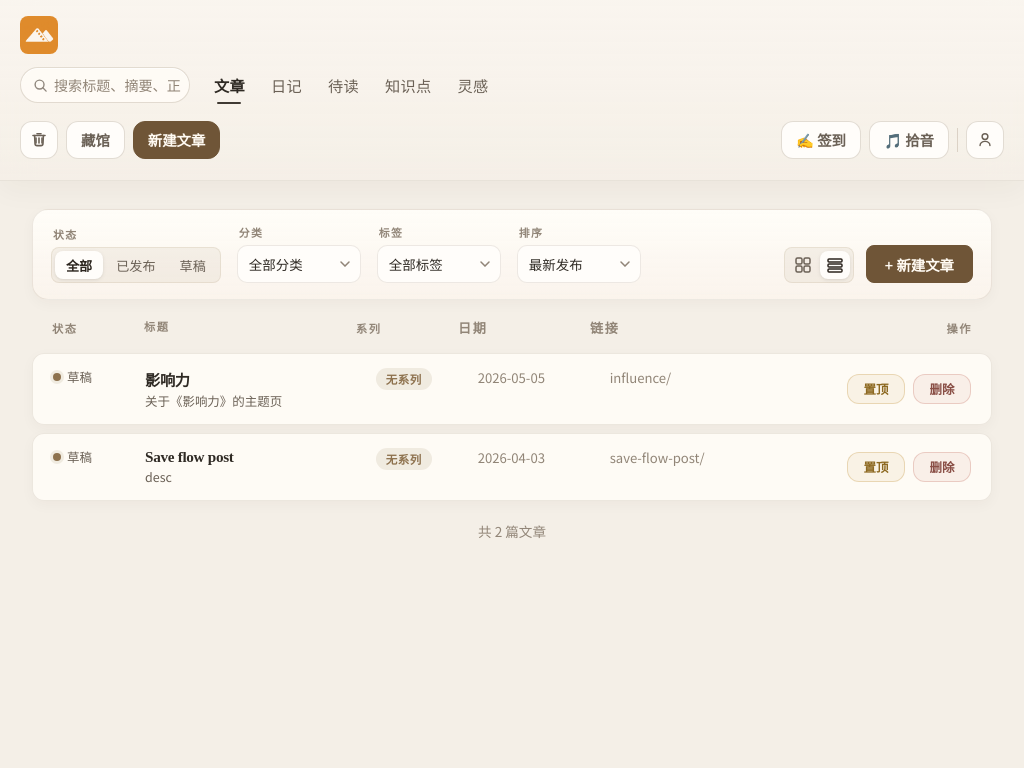
Test: App save flow › updates linked topic documents after saving a backlink source post
This screenshot has width=1024, height=768.
Expected: the text "Save flow post" is shown, top-left (145, 448), bottom-right (234, 466)
Click the button "草稿 Save flow post desc 无系列 2026-04-03 save-flow-post/" at (189, 456), box top-left (53, 448), bottom-right (831, 486)
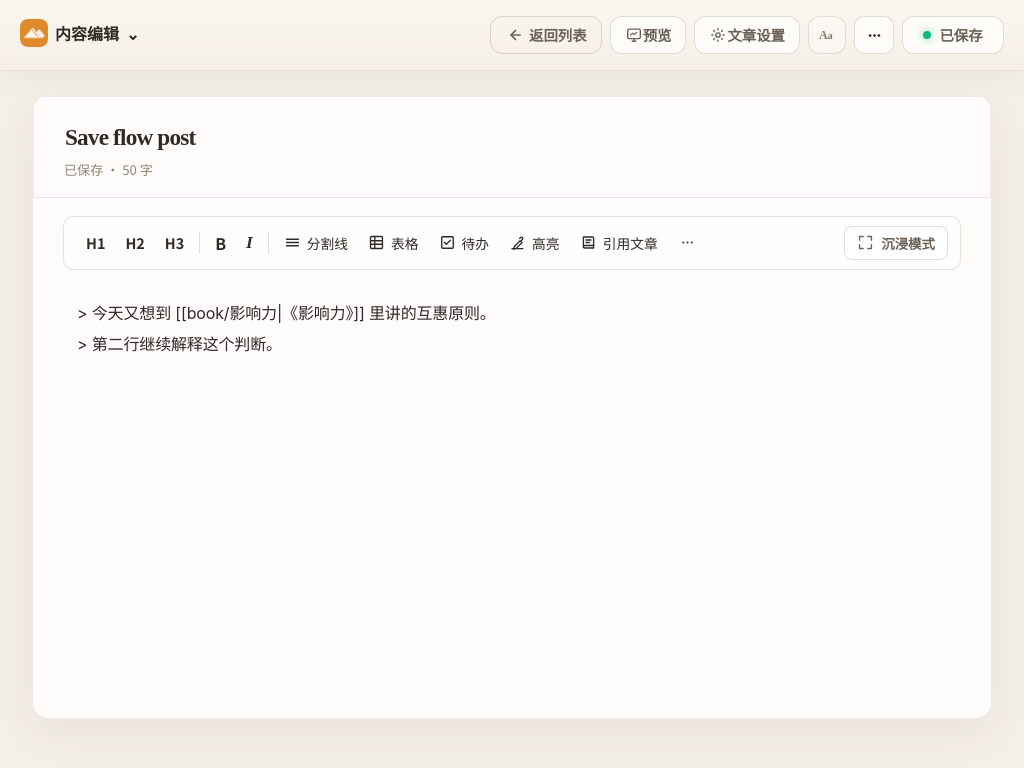
Expected: the text box named "Markdown 编辑器" is shown, top-left (63, 270), bottom-right (961, 688)
Replace the text in the field named "标题" with "Updated source title" at (512, 138), box top-left (64, 123), bottom-right (960, 153)
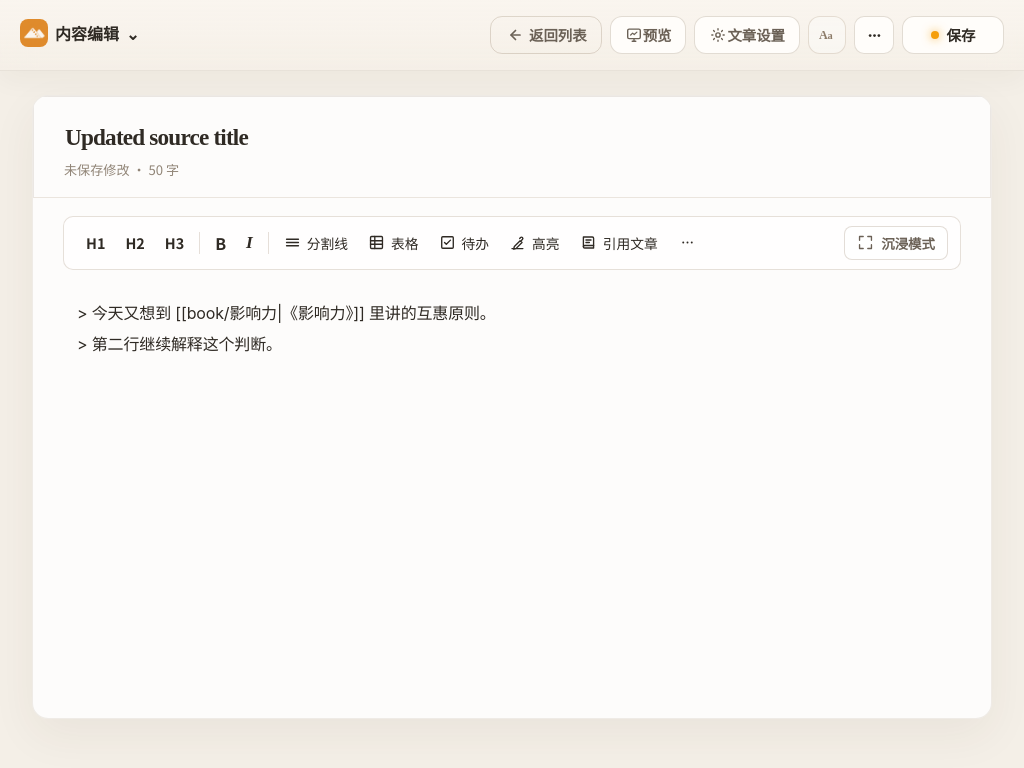
Click the button "保存" at (953, 35), box top-left (902, 16), bottom-right (1004, 54)
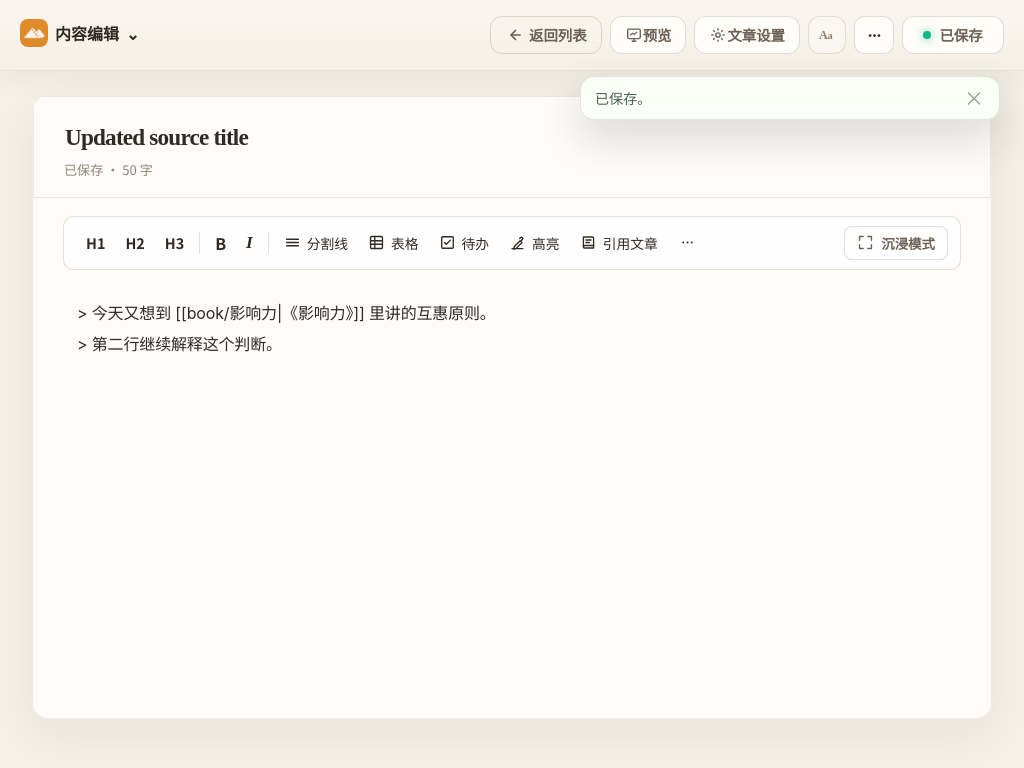
Expected: the text "已保存。" is shown, top-left (595, 88), bottom-right (651, 108)
